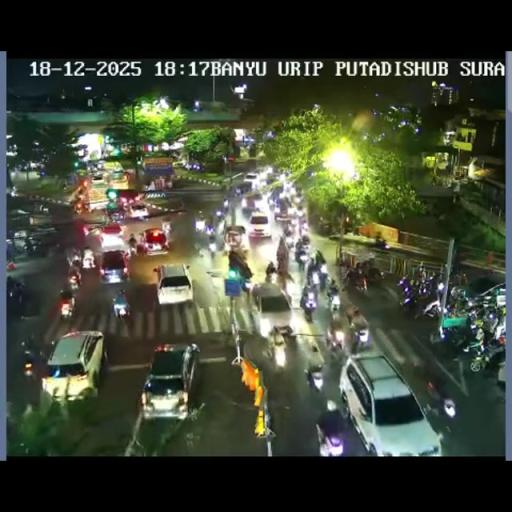Car: (340, 352, 440, 454), (139, 342, 202, 420), (41, 329, 106, 402), (250, 282, 292, 342), (449, 276, 504, 320), (155, 262, 193, 306), (100, 250, 130, 284), (22, 230, 60, 256), (142, 196, 186, 218), (98, 225, 128, 253), (141, 228, 169, 255), (247, 211, 272, 238), (223, 224, 246, 247), (242, 192, 262, 218), (126, 202, 150, 219), (243, 172, 260, 190), (274, 207, 292, 224), (265, 170, 279, 186), (111, 169, 124, 181), (172, 159, 187, 168), (91, 169, 103, 179)
Motorcycle: (434, 313, 477, 356), (466, 330, 504, 374), (422, 376, 456, 422), (315, 405, 346, 453), (346, 308, 370, 348), (20, 334, 43, 374), (396, 277, 422, 310), (421, 295, 445, 321), (299, 287, 318, 319), (324, 326, 343, 356), (259, 406, 275, 440), (348, 268, 369, 293), (305, 364, 323, 393), (426, 272, 444, 298), (6, 276, 25, 300), (112, 294, 130, 319), (480, 309, 498, 334), (326, 281, 339, 310), (60, 295, 74, 321), (294, 244, 309, 266), (337, 263, 350, 288), (67, 270, 81, 292), (412, 263, 426, 285), (315, 265, 328, 288), (276, 269, 287, 294), (451, 270, 468, 286), (372, 237, 390, 250), (318, 219, 332, 235), (266, 266, 278, 284), (218, 198, 230, 216), (314, 248, 326, 266), (82, 253, 95, 269), (285, 232, 296, 250), (240, 277, 252, 293), (108, 210, 124, 222), (298, 219, 309, 236), (128, 234, 137, 254), (162, 220, 172, 238), (207, 238, 217, 255), (282, 220, 292, 236), (136, 240, 146, 255), (196, 209, 206, 223), (74, 200, 84, 214), (71, 257, 82, 269), (266, 198, 276, 211), (204, 223, 214, 236), (234, 186, 244, 196)
